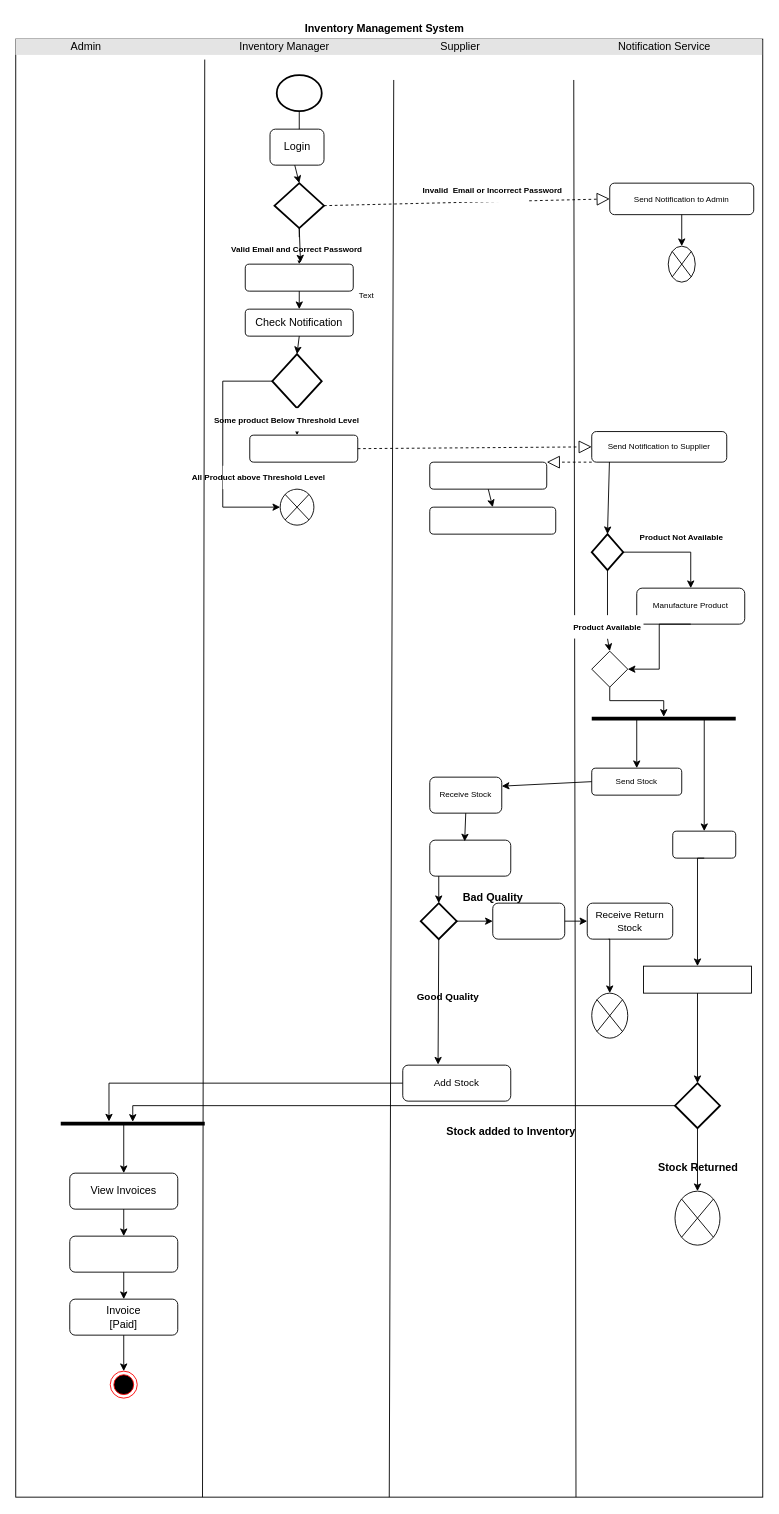
The diagram is 779 pixels wide and 1514 high, and some of its shapes have lost their labels. Each missing label, with the box of its shape:
Check Product Available: (429, 506, 556, 534)
Check Quality: (429, 839, 511, 876)
Invoice [Unpaid]: (643, 965, 752, 993)
Pay Supplier: (69, 1235, 178, 1272)
Place Order: (249, 434, 358, 462)
Profile Dashboard: (244, 263, 353, 291)
Raise Invoice: (672, 830, 736, 858)
Return Stock: (492, 902, 565, 939)
View Order: (429, 461, 547, 489)
